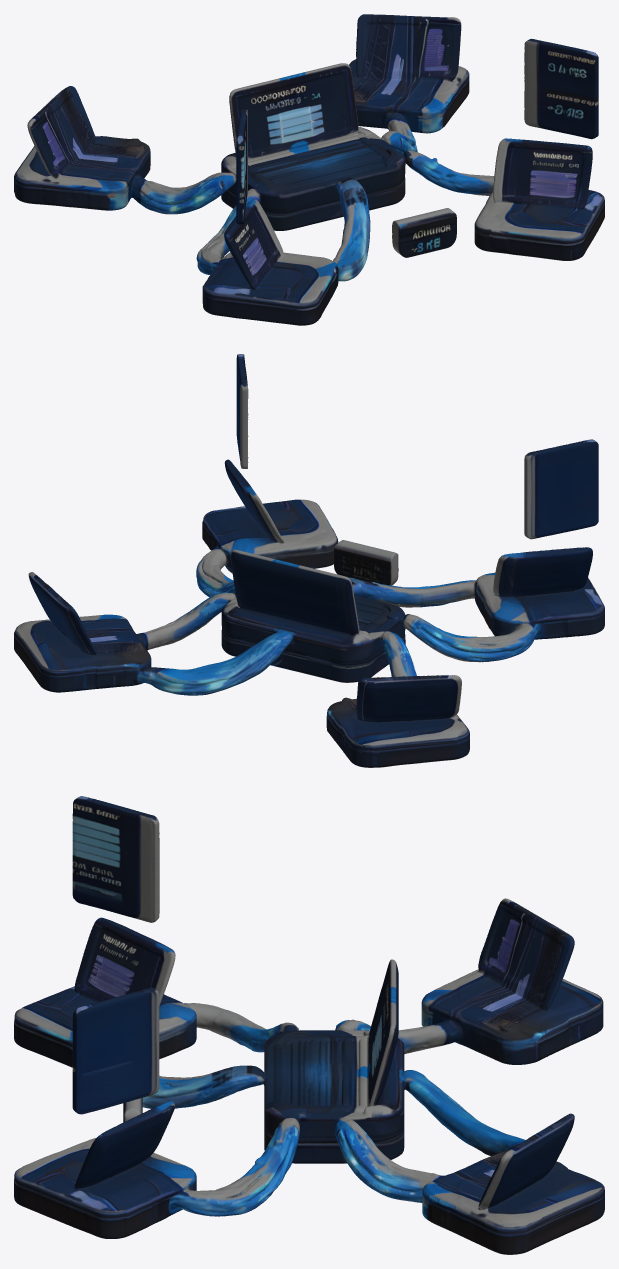
Rendered from futuristic+laptop+cluster+3d+model.glb.
3 views of the same model, one above another, from view 1: azimuth 30°, elevation 25°; view 2: azimuth 150°, elevation 25°; view 3: azimuth 270°, elevation 25° (orthographic). The views are drawn at different scales.
Visible parts, largest first — view 1: tripo_node_3148dfdd-cd62-419a-b414-d24d172aebc0; view 2: tripo_node_3148dfdd-cd62-419a-b414-d24d172aebc0; view 3: tripo_node_3148dfdd-cd62-419a-b414-d24d172aebc0.
Part boxes in pixels (bbox=[...]): tripo_node_3148dfdd-cd62-419a-b414-d24d172aebc0: bbox=[14, 14, 604, 325]; tripo_node_3148dfdd-cd62-419a-b414-d24d172aebc0: bbox=[14, 354, 604, 767]; tripo_node_3148dfdd-cd62-419a-b414-d24d172aebc0: bbox=[14, 796, 604, 1254].
Size of the model in its own units: 1 by 0.3897 by 0.9253.
1 material, 1 textured.
